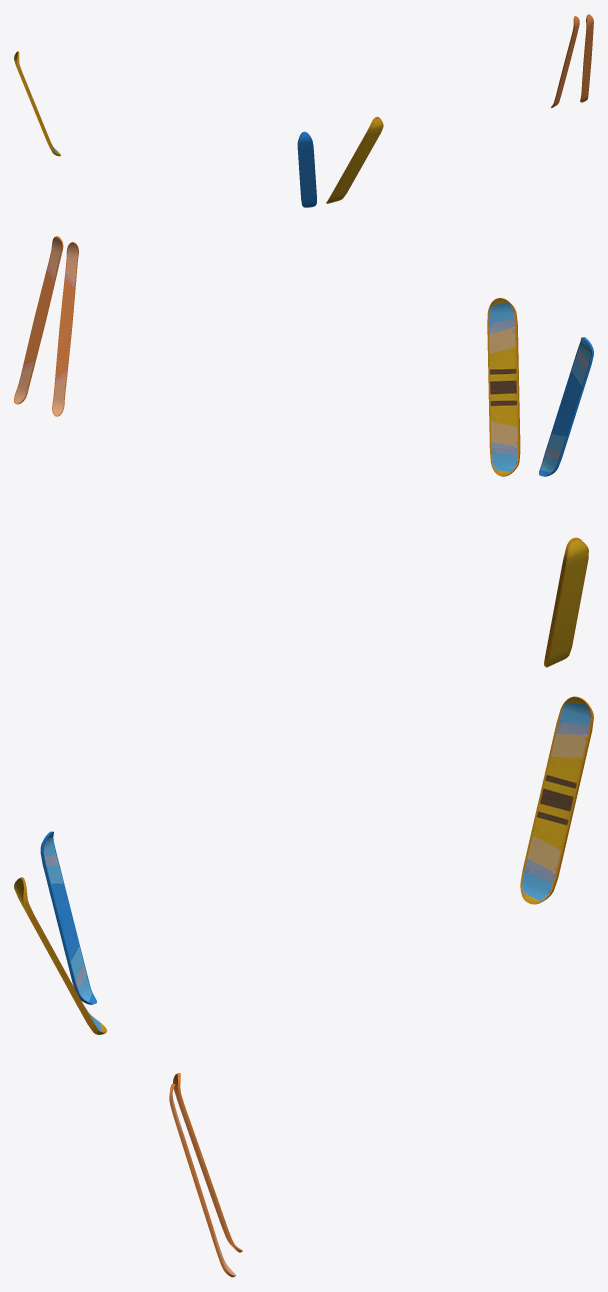
The model's file is pref_sm_beach_winter_hxbR01_lv3.fbx.
3 views of the same model, one above another, from view 1: azimuth 30°, elevation 25°; view 2: azimuth 150°, elevation 25°; view 3: azimuth 270°, elevation 25° (orthographic). The views are drawn at different scales.
Parts seen in each view (by area): view 1: pref_sm_beach_winter_hxbR01_lv3; view 2: pref_sm_beach_winter_hxbR01_lv3; view 3: pref_sm_beach_winter_hxbR01_lv3.
Part boxes in pixels (x1,y1,x2,y2): pref_sm_beach_winter_hxbR01_lv3: (14, 14, 593, 207); pref_sm_beach_winter_hxbR01_lv3: (14, 236, 593, 667); pref_sm_beach_winter_hxbR01_lv3: (14, 696, 593, 1277).
Size of the model in its own units: 14.13 by 3.09 by 8.29.
